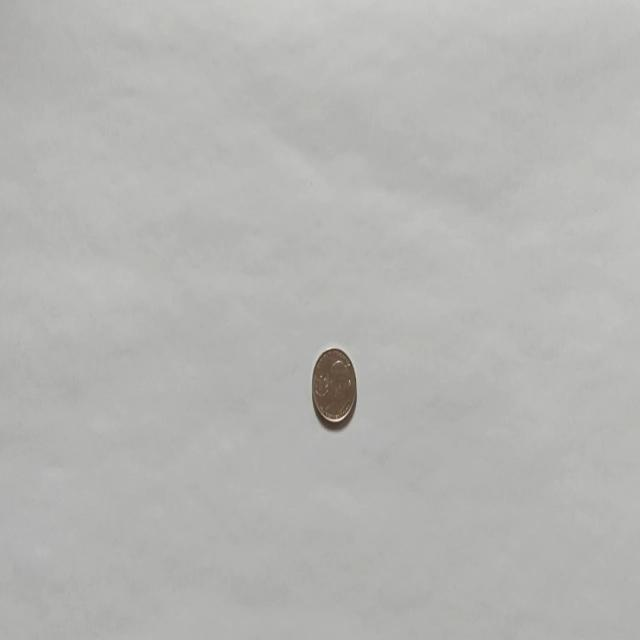seribu rupiah koin: (310, 346, 357, 426)
